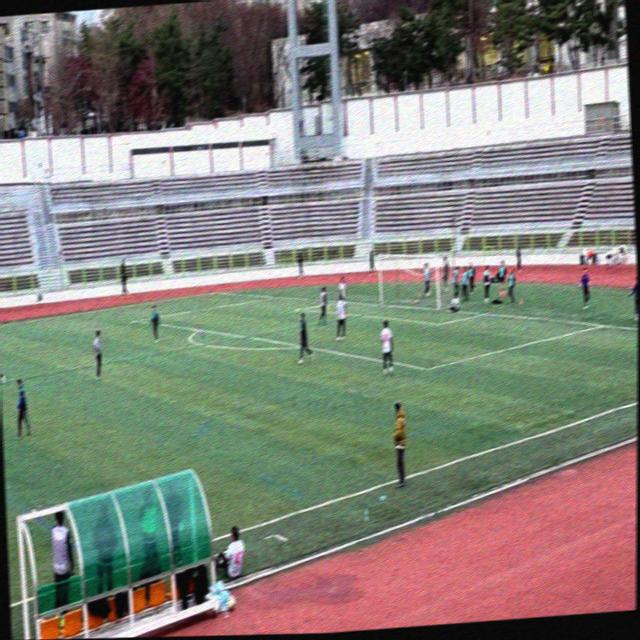bigarea_bottom_inner: (422, 361, 434, 377)
bigarea_bottom_outter: (596, 316, 608, 333)
bigarea_top_inner: (131, 314, 141, 328)
bigarea_top_outter: (275, 292, 283, 302)
corner: (210, 289, 219, 296)
smallarea_bottom_inner: (434, 320, 443, 330)
smallarea_bottom_outter: (478, 307, 490, 320)
smallarea_top_inner: (295, 304, 303, 313)
top_arc_area_intersection: (194, 320, 206, 338)
